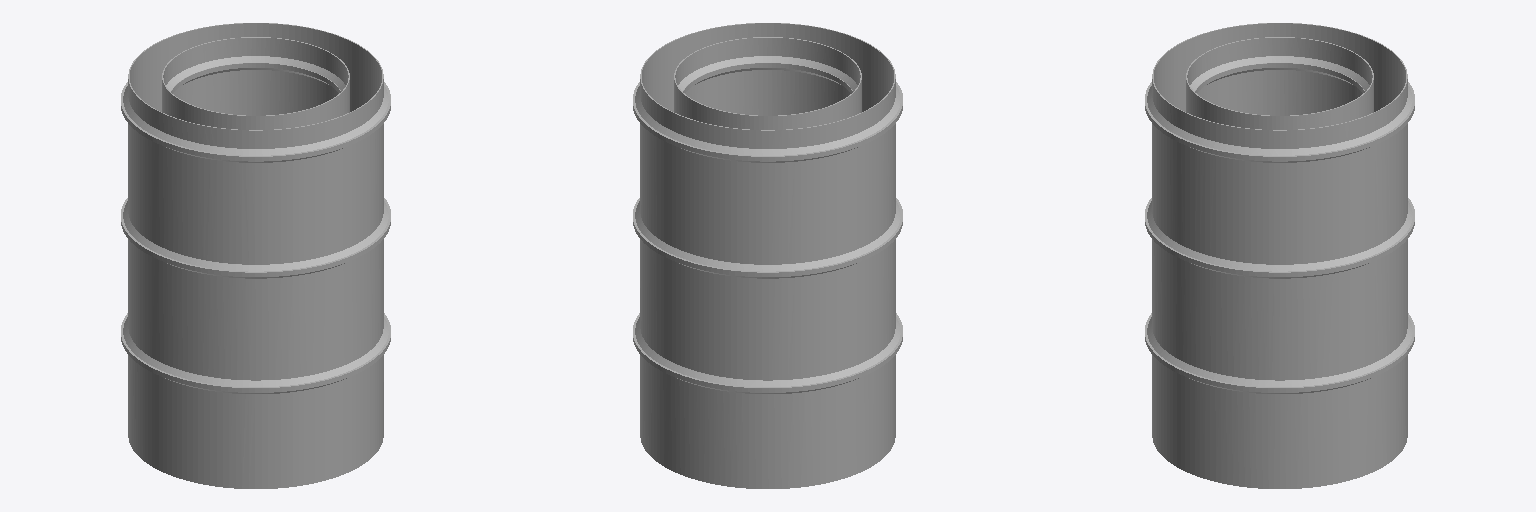
The model's file is PechFormaTubeA.obj.
3 renders of one model, left to right at view 1: azimuth 30°, elevation 25°; view 2: azimuth 150°, elevation 25°; view 3: azimuth 270°, elevation 25°, orthographic.
Parts seen in each view (by area): view 1: Solid1; view 2: Solid1; view 3: Solid1.
Part boxes in pixels (x1,y1,x2,y2): Solid1: (121,23,390,488); Solid1: (633,23,902,488); Solid1: (1145,23,1414,488).
Size of the model in its own units: 212 by 310 by 212.